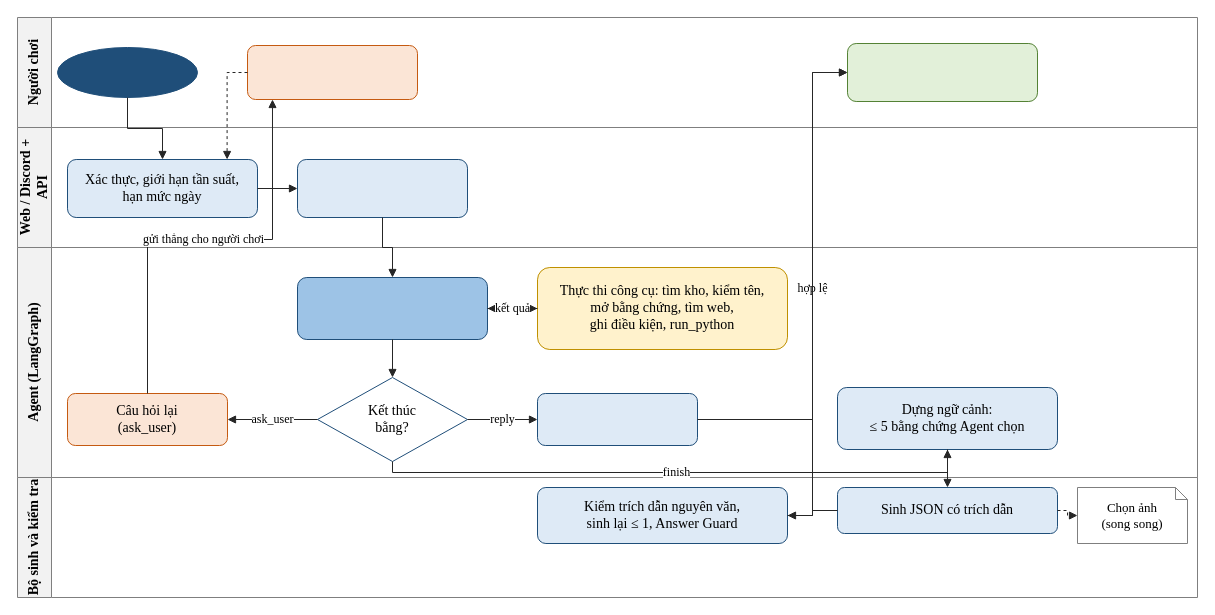
Some shapes in this 1215 by 615 pixel diagram are drawn without their labels. Here are the shapes that lost their labels. From the top down, the centre of each, then its label:
the point at 127,72: Đặt câu hỏi
the point at 332,72: Trả lời câu hỏi lại (lượt mới)
the point at 942,72: Nhận câu trả lời kèm nguồn, ảnh
the point at 382,188: Nạp ký ức và các lượt gần đây
the point at 392,308: Agent phân tích ý định, chọn công cụ
the point at 617,419: Trả lời ngắn (reply)
